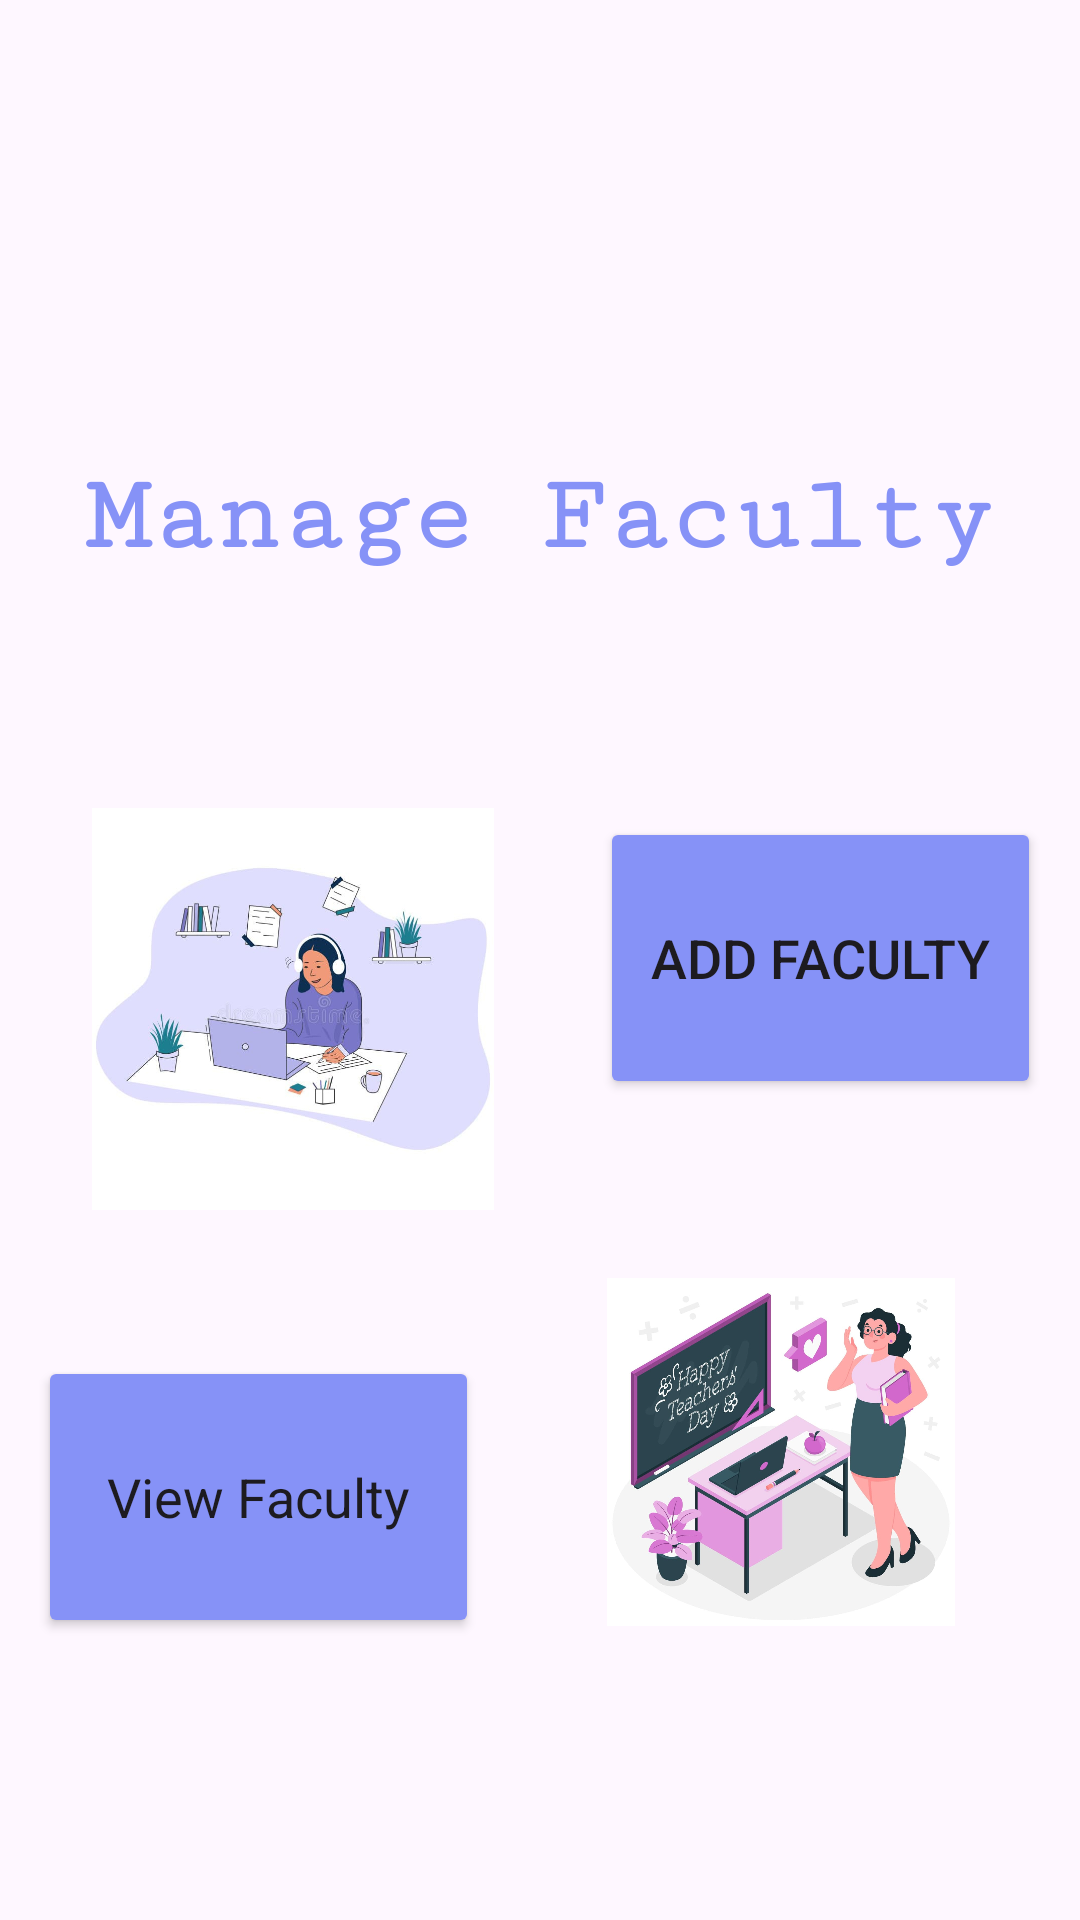

Icons on this 1080 × 1920 Android screen, each with the point to tap as point (x, y):
teacher login: point (783, 1447)
